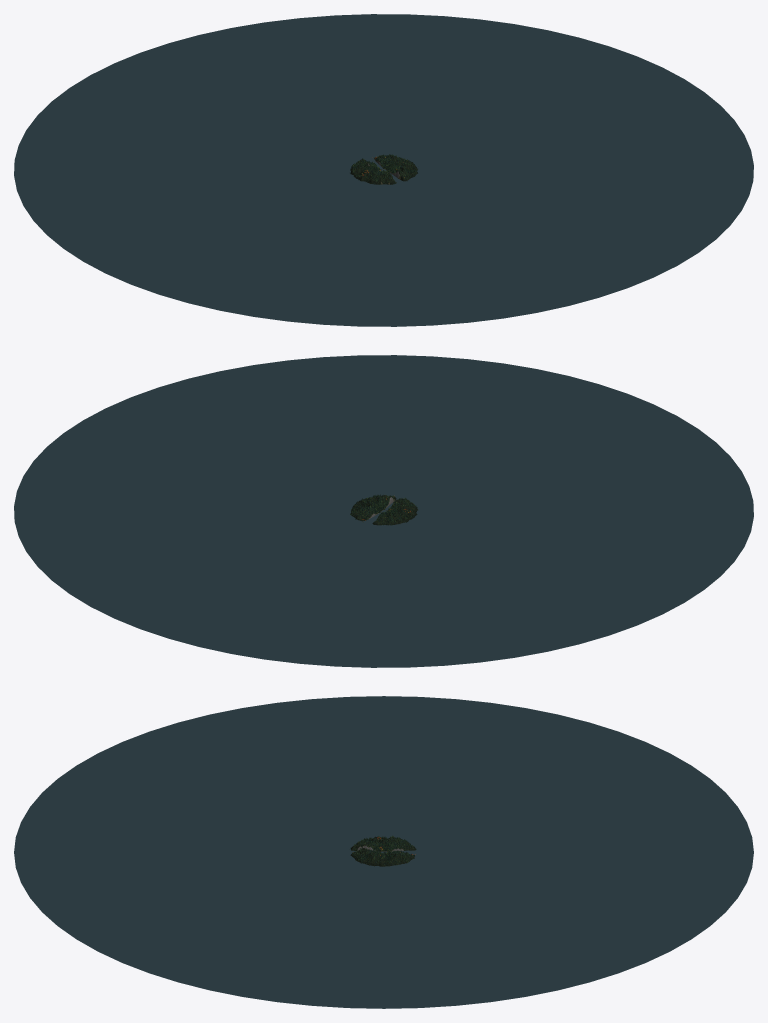
The model's file is backdrop_near_rect_coast_summer.glb.
The picture shows the model from 3 angles, top to bottom: view 1: azimuth 30°, elevation 25°; view 2: azimuth 150°, elevation 25°; view 3: azimuth 270°, elevation 25°; orthographic projection.
Visible parts, largest first — view 1: water_N, water_S, water_W, water_E; view 2: water_N, water_S, water_W, water_E; view 3: water_E, water_N, water_W, water_S.
Boxes of the visible parts, bbox=[...] form: water_N: bbox=[26, 14, 479, 170]; water_S: bbox=[288, 170, 741, 326]; water_W: bbox=[14, 130, 382, 321]; water_E: bbox=[384, 19, 753, 210]; water_N: bbox=[26, 511, 479, 667]; water_S: bbox=[288, 355, 741, 511]; water_W: bbox=[384, 471, 753, 662]; water_E: bbox=[14, 360, 383, 551]; water_E: bbox=[123, 863, 644, 1008]; water_N: bbox=[385, 742, 753, 962]; water_W: bbox=[123, 696, 644, 852]; water_S: bbox=[14, 742, 383, 962].
Size of the model in its own units: 6000 by 175 by 6000.
5 materials, 3 textured.
